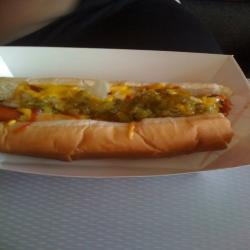burger: (1, 75, 242, 162)
